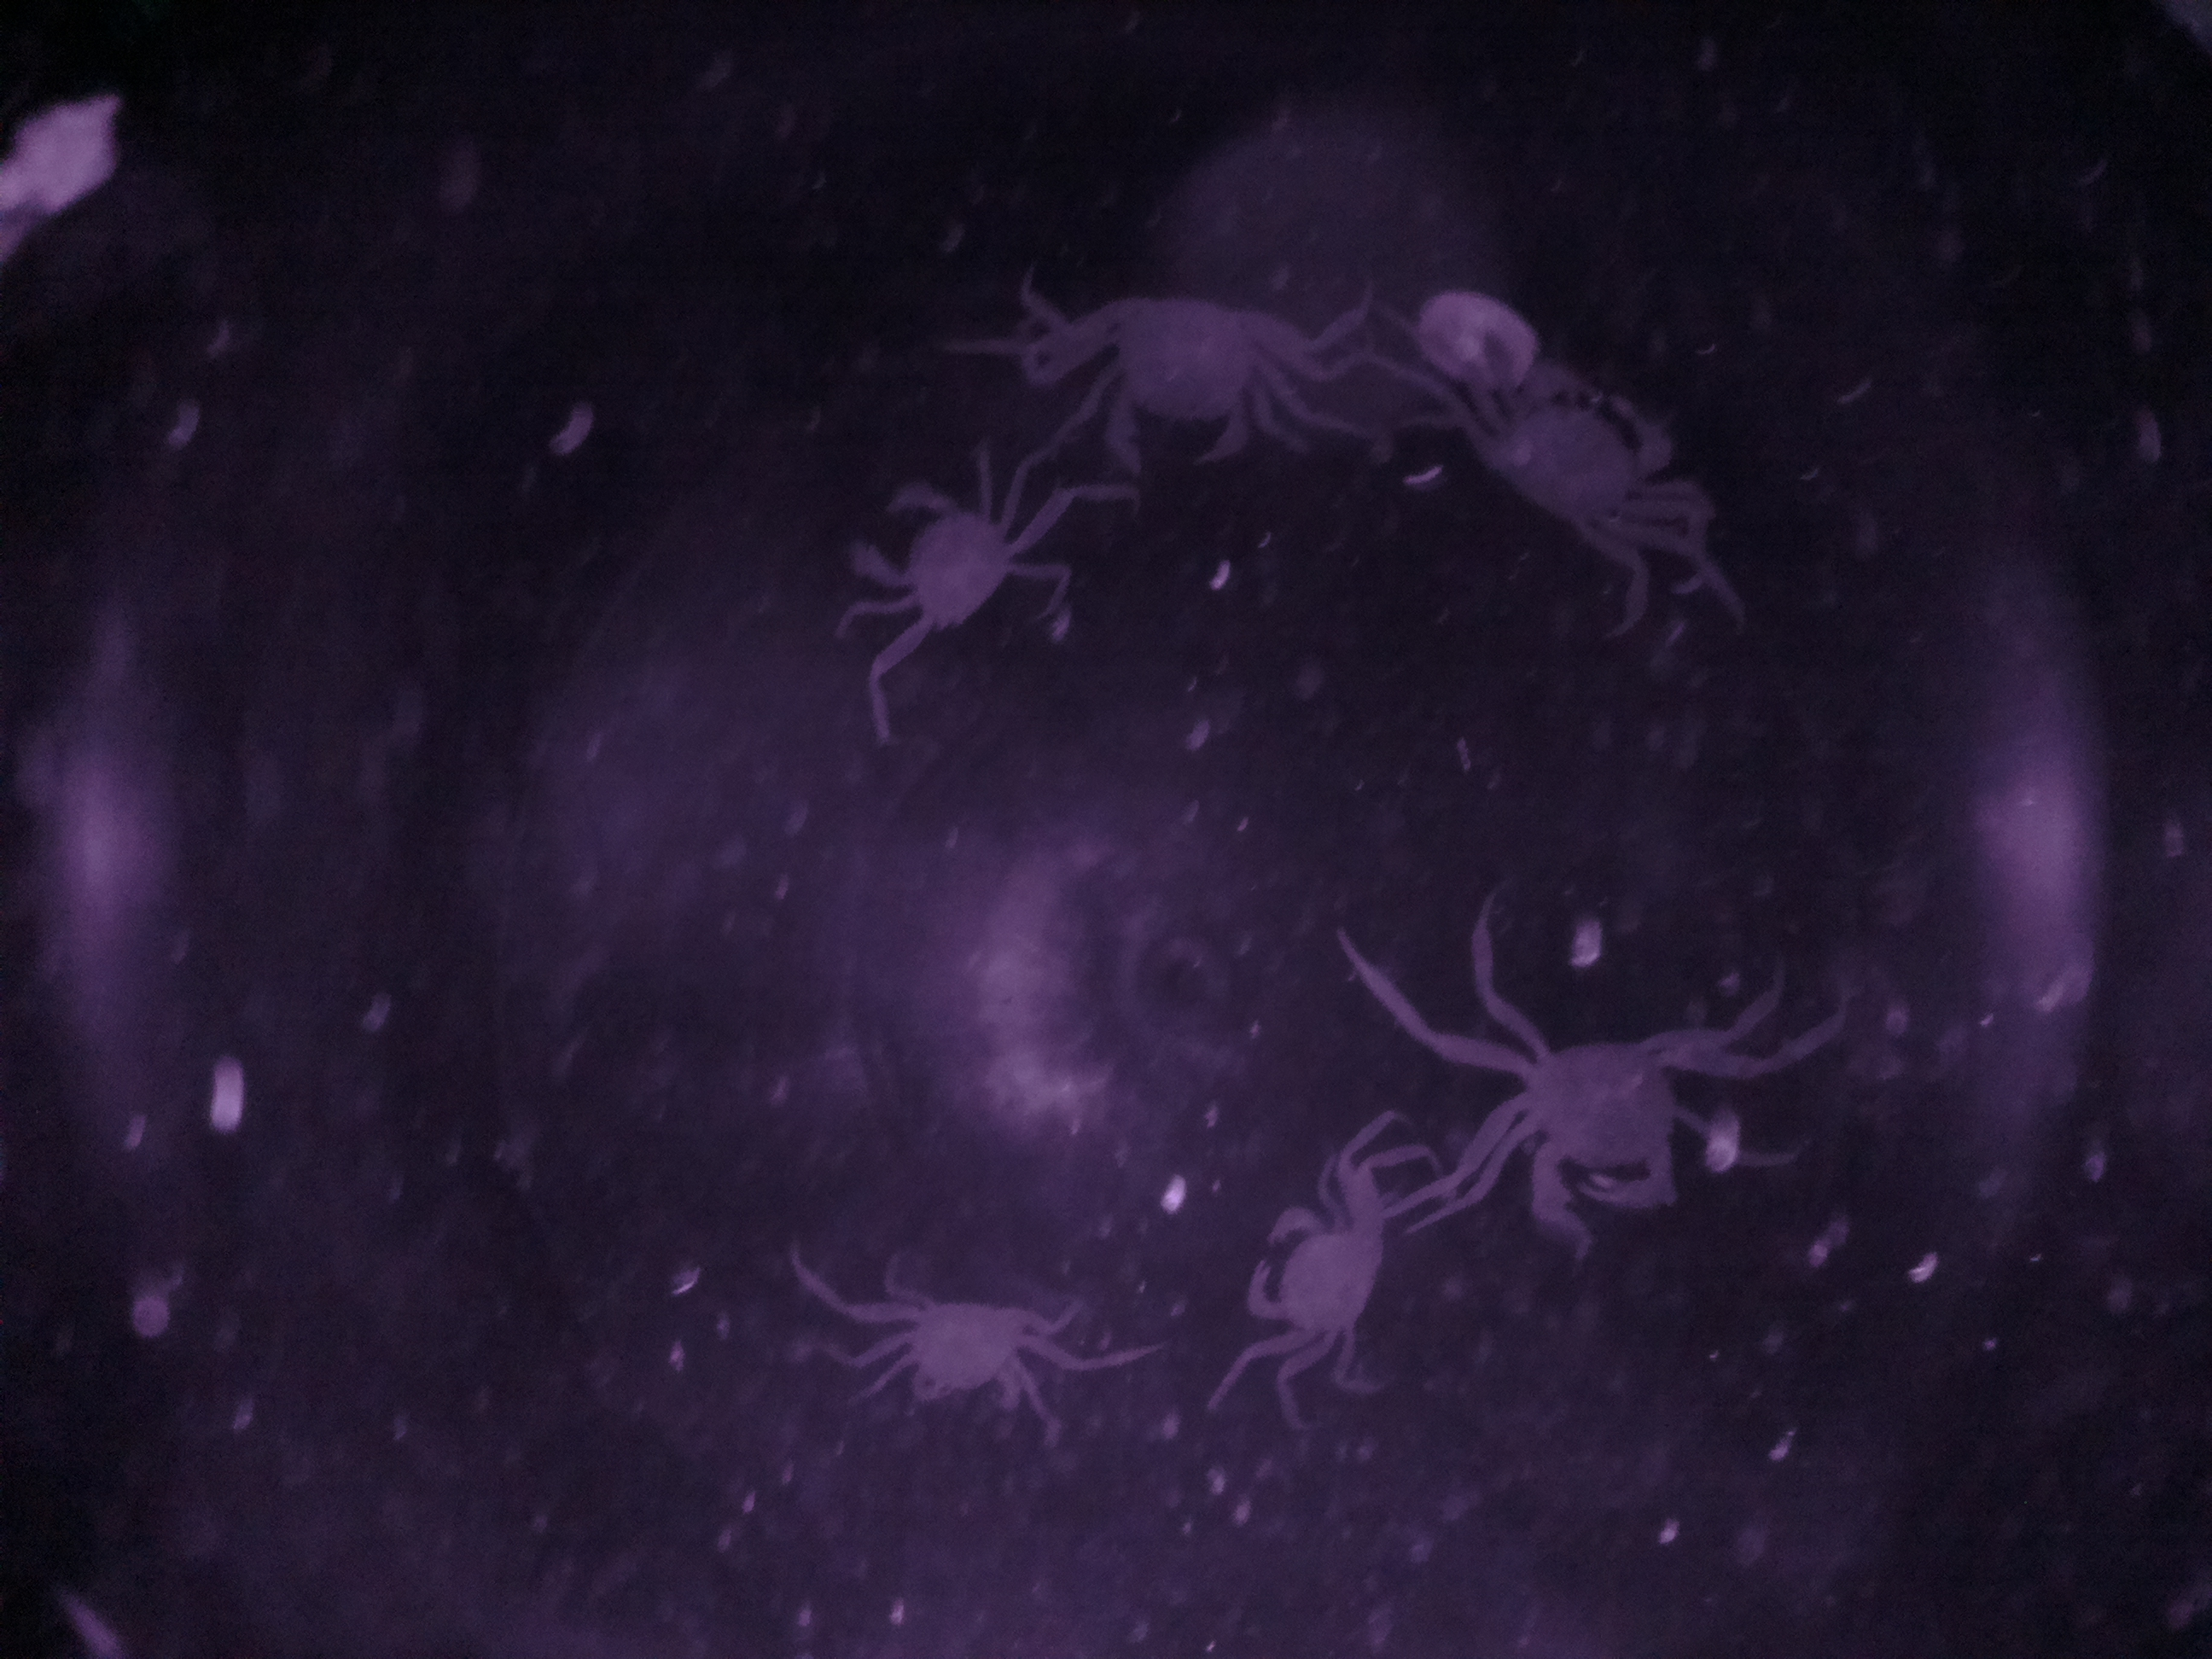Crab: (1439, 999, 1782, 1262), (1440, 340, 1716, 579), (1033, 282, 1343, 493), (827, 1267, 1144, 1438), (1217, 1145, 1423, 1406), (840, 476, 1055, 694)
